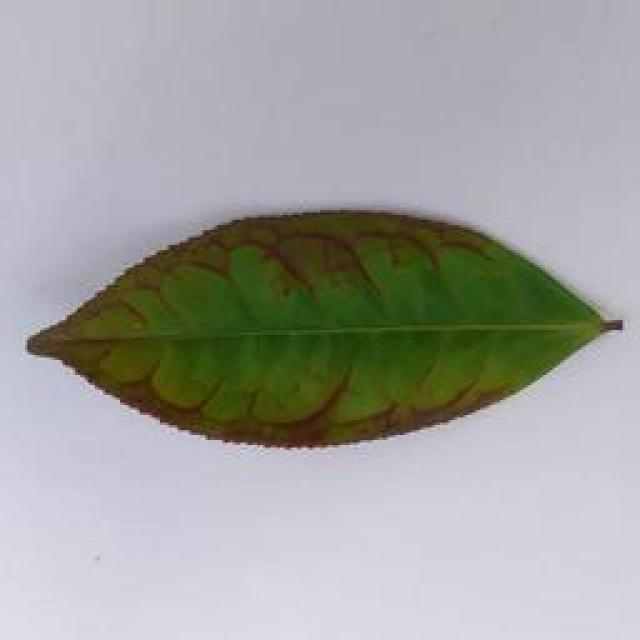Red Leaf Spot: (0, 202, 630, 462)
